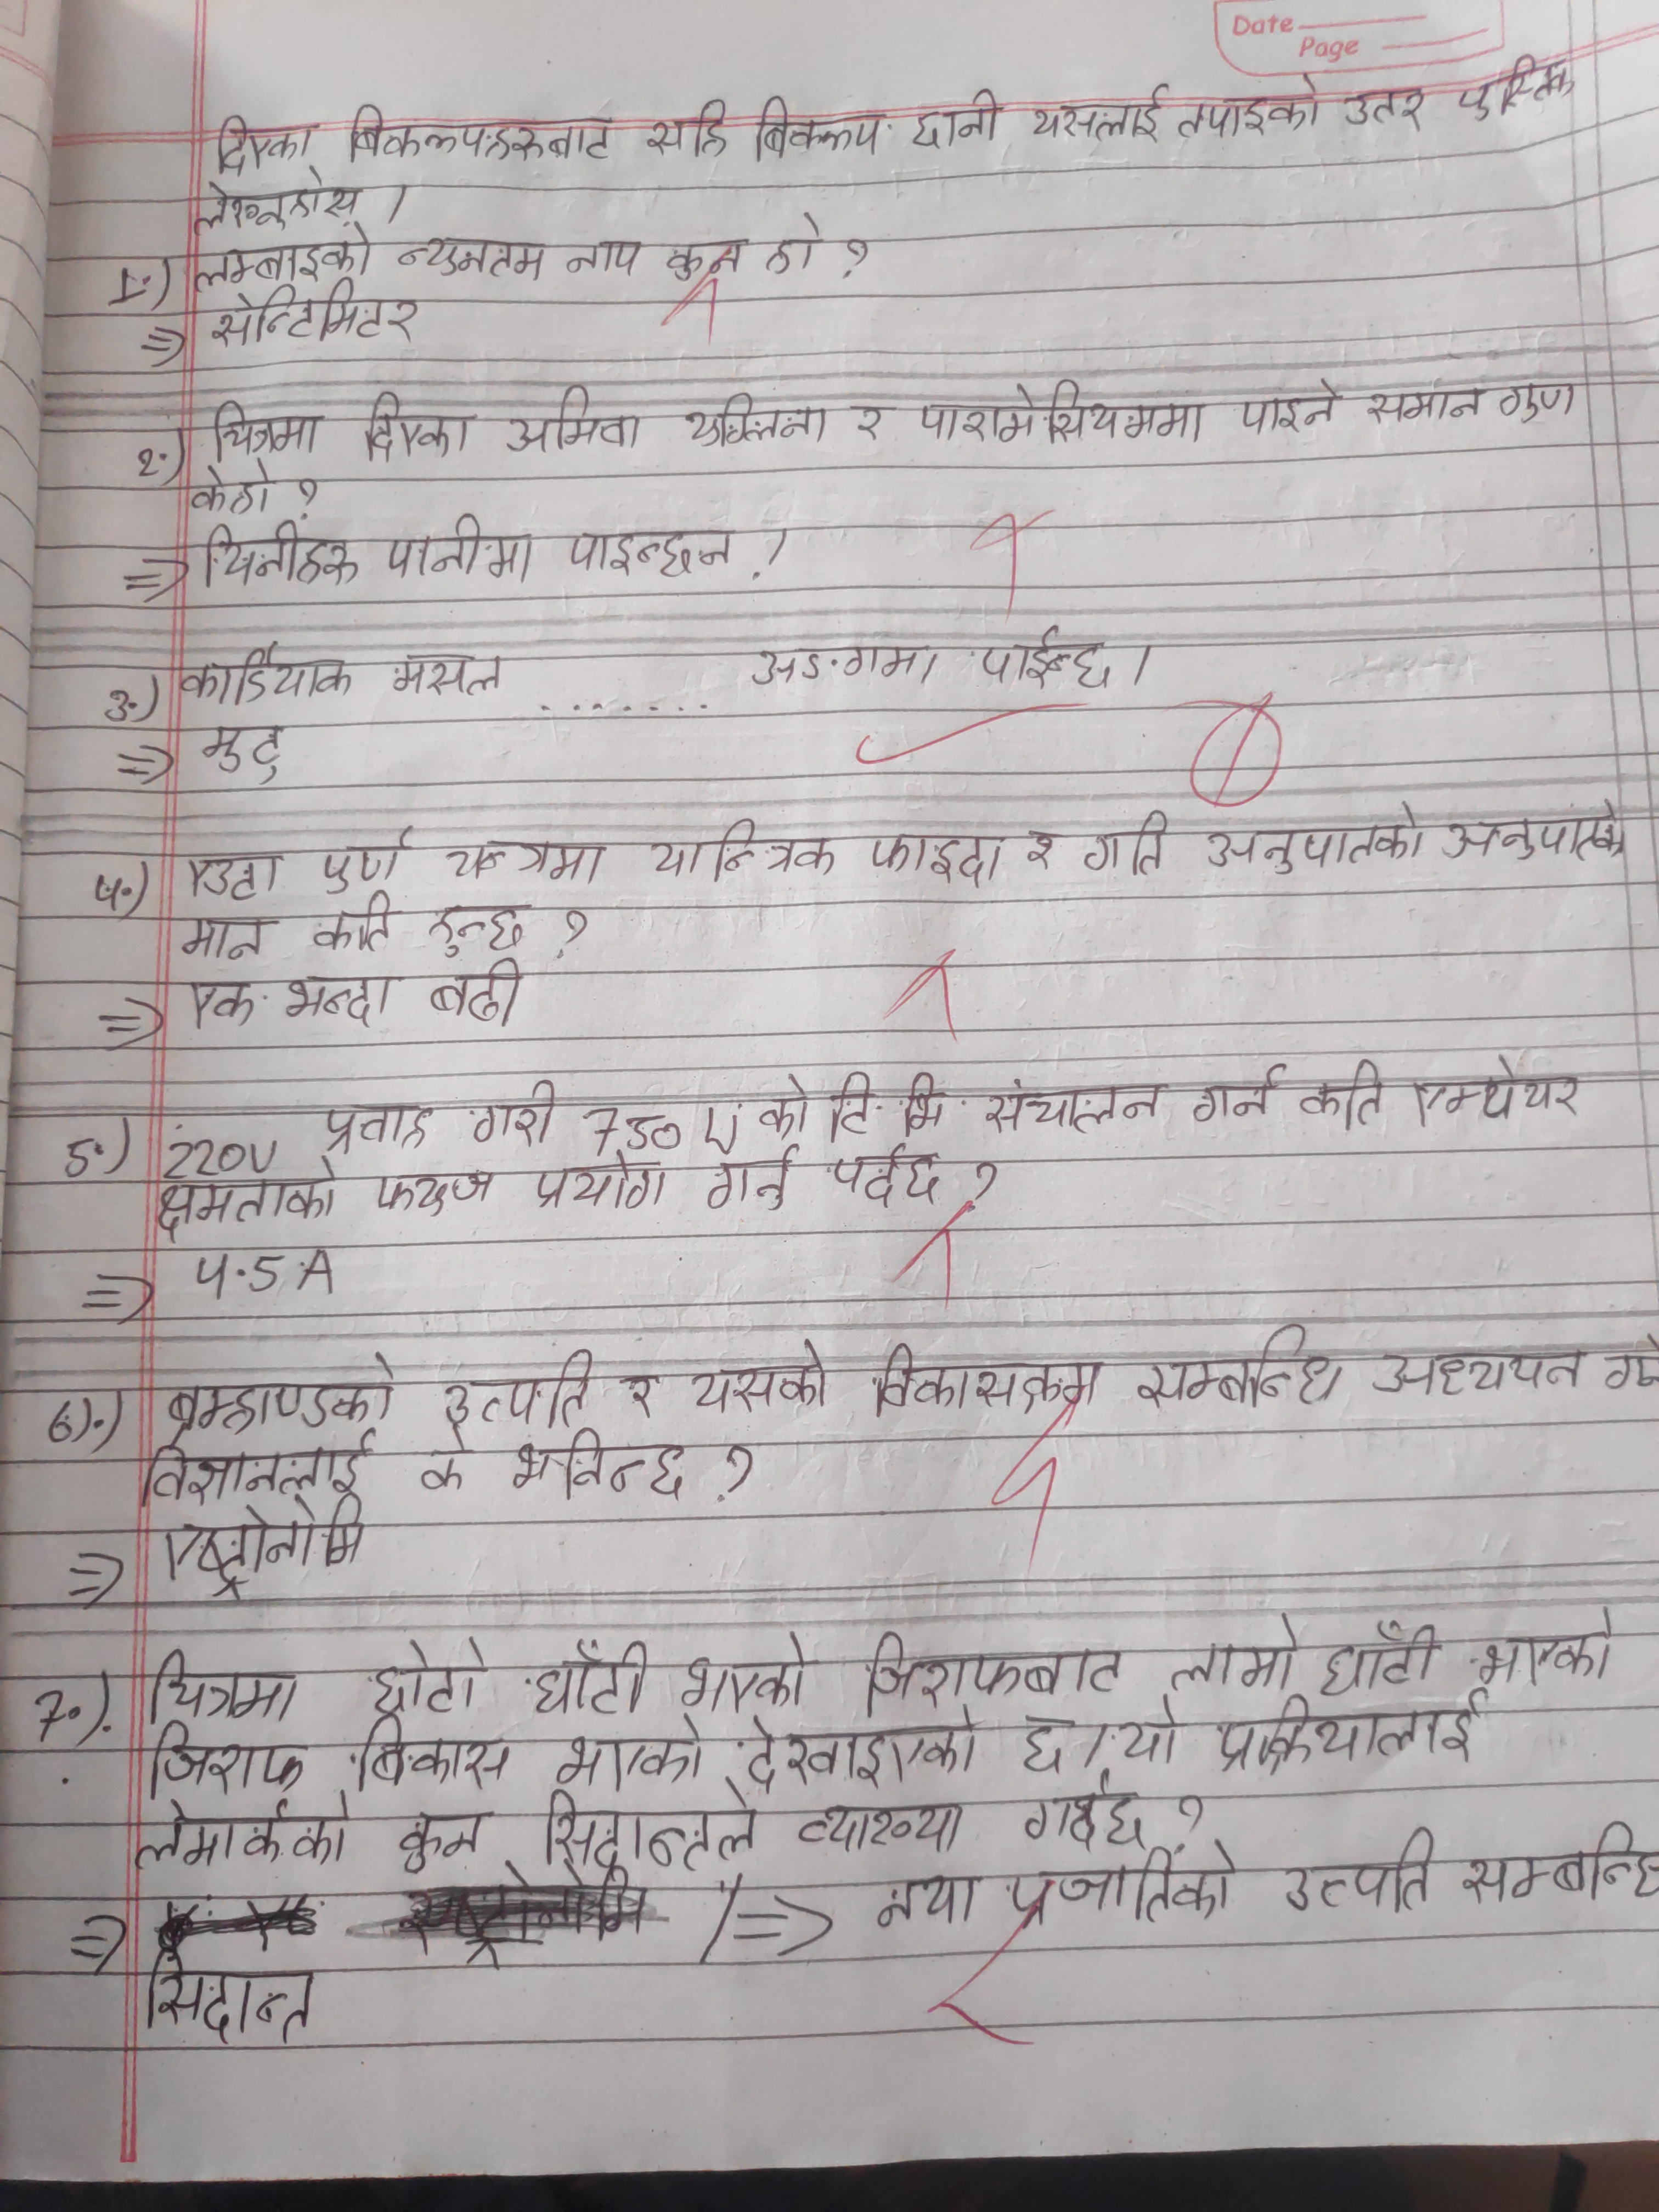text: (1213, 1693, 1483, 1773), (162, 1352, 401, 1437), (1009, 1841, 1241, 1928), (160, 1496, 376, 1588), (859, 1629, 1129, 1702), (538, 1791, 762, 1874), (915, 381, 1204, 446), (741, 1714, 979, 1791), (873, 1341, 1107, 1418), (139, 1951, 322, 2048), (1204, 798, 1429, 874), (1136, 1329, 1342, 1413), (1459, 1820, 1659, 1905), (131, 1797, 359, 1872), (347, 103, 617, 164), (138, 1432, 378, 1500), (206, 282, 423, 348), (1281, 1831, 1443, 1918), (505, 1428, 687, 1503), (1436, 799, 1633, 864), (1412, 1055, 1584, 1129), (443, 1348, 599, 1428), (141, 1723, 308, 1797), (647, 815, 840, 880), (690, 1338, 836, 1420), (383, 510, 538, 587), (676, 1634, 817, 1717), (150, 1649, 301, 1726), (356, 1716, 509, 1791), (1380, 1341, 1586, 1397), (974, 1076, 1168, 1136), (197, 521, 362, 587), (176, 644, 356, 705), (1166, 1615, 1302, 1695), (1476, 1613, 1617, 1689), (155, 1174, 342, 1231), (498, 385, 647, 456), (554, 1721, 709, 1789), (528, 1637, 653, 1721), (1319, 1618, 1445, 1698), (795, 1799, 969, 1855), (366, 1637, 486, 1717), (1023, 1780, 1159, 1850), (976, 622, 1114, 690), (1030, 82, 1171, 148), (192, 232, 375, 282), (533, 1151, 673, 1217), (192, 176, 361, 230), (826, 1068, 950, 1141), (748, 643, 938, 690), (563, 526, 732, 578), (1178, 77, 1323, 138), (753, 98, 885, 164), (361, 392, 479, 463), (448, 834, 605, 887), (394, 233, 547, 286), (681, 392, 828, 446), (831, 1139, 939, 1212), (1457, 56, 1574, 122), (864, 834, 1007, 887), (427, 956, 528, 1029), (207, 401, 326, 462), (704, 1148, 805, 1217), (368, 1165, 493, 1219), (1295, 1061, 1394, 1129), (211, 111, 321, 172), (315, 827, 416, 894), (392, 1810, 488, 1878), (389, 641, 504, 697), (197, 719, 291, 787), (1190, 1061, 1284, 1129), (467, 1082, 559, 1148), (1077, 812, 1171, 876), (870, 1871, 978, 1926), (275, 974, 397, 1022), (647, 99, 739, 162), (1236, 376, 1342, 430), (908, 92, 1007, 150), (429, 906, 532, 960), (315, 1104, 436, 1150), (186, 460, 275, 519), (179, 911, 282, 961), (1368, 385, 1486, 428), (179, 977, 261, 1036), (1014, 1710, 1077, 1787), (315, 892, 392, 953), (185, 855, 288, 900), (416, 1430, 483, 1498), (1342, 85, 1429, 134), (755, 1075, 814, 1144), (1122, 1705, 1187, 1766), (763, 211, 823, 277), (1601, 1338, 1659, 1406), (1500, 381, 1584, 425), (666, 239, 748, 282), (565, 235, 647, 277), (613, 1372, 671, 1428), (1014, 820, 1054, 874), (847, 401, 890, 441)
